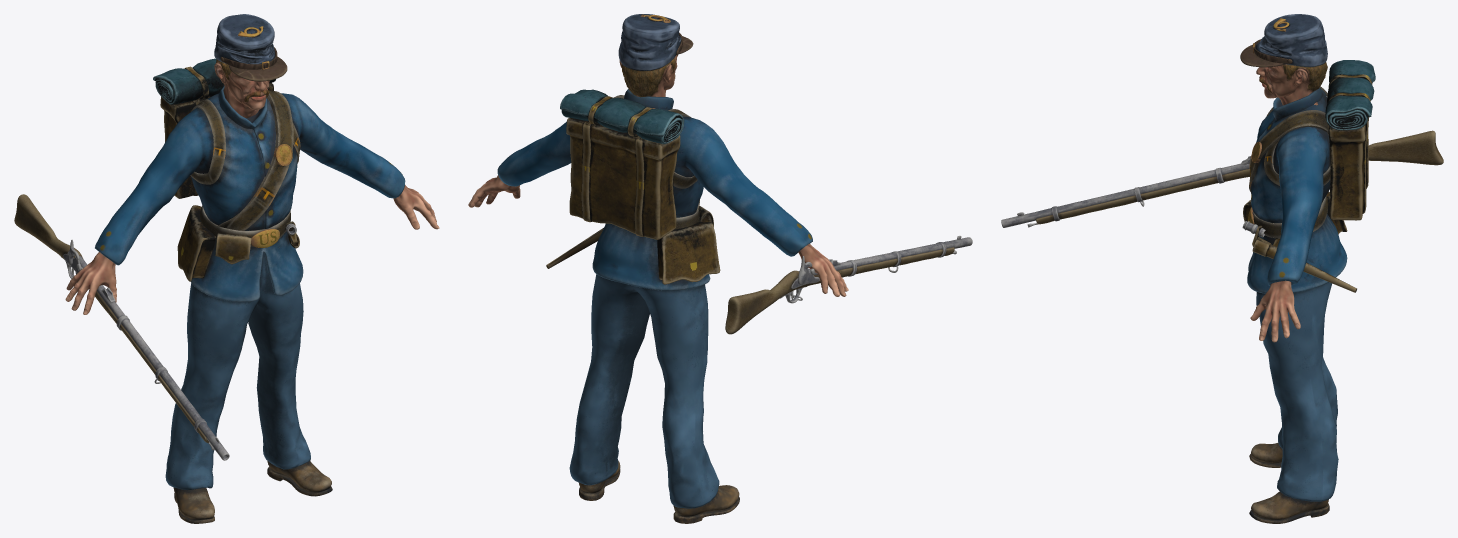
The model's file is soldado_union.glb.
The picture shows the model from 3 angles, left to right: view 1: azimuth 30°, elevation 25°; view 2: azimuth 150°, elevation 25°; view 3: azimuth 270°, elevation 25°; orthographic projection. The views are drawn at different scales.
Parts seen in each view (by area): view 1: Union, Head, Kit1; view 2: Union, Kit1, Head; view 3: Union, Kit1, Head.
Part boxes in pixels (bbox=[...]): Union: bbox=[95, 86, 405, 523]; Head: bbox=[65, 14, 439, 314]; Kit1: bbox=[14, 58, 299, 460]; Union: bbox=[497, 89, 812, 523]; Kit1: bbox=[546, 89, 972, 334]; Head: bbox=[468, 14, 848, 296]; Union: bbox=[1247, 88, 1347, 523]; Kit1: bbox=[1001, 60, 1443, 292]; Head: bbox=[1240, 14, 1330, 342].
Size of the model in its own units: 150 by 185 by 159.
Materials: 3 (3 with a texture image).
